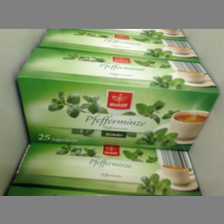tea: (16, 47, 219, 150)
